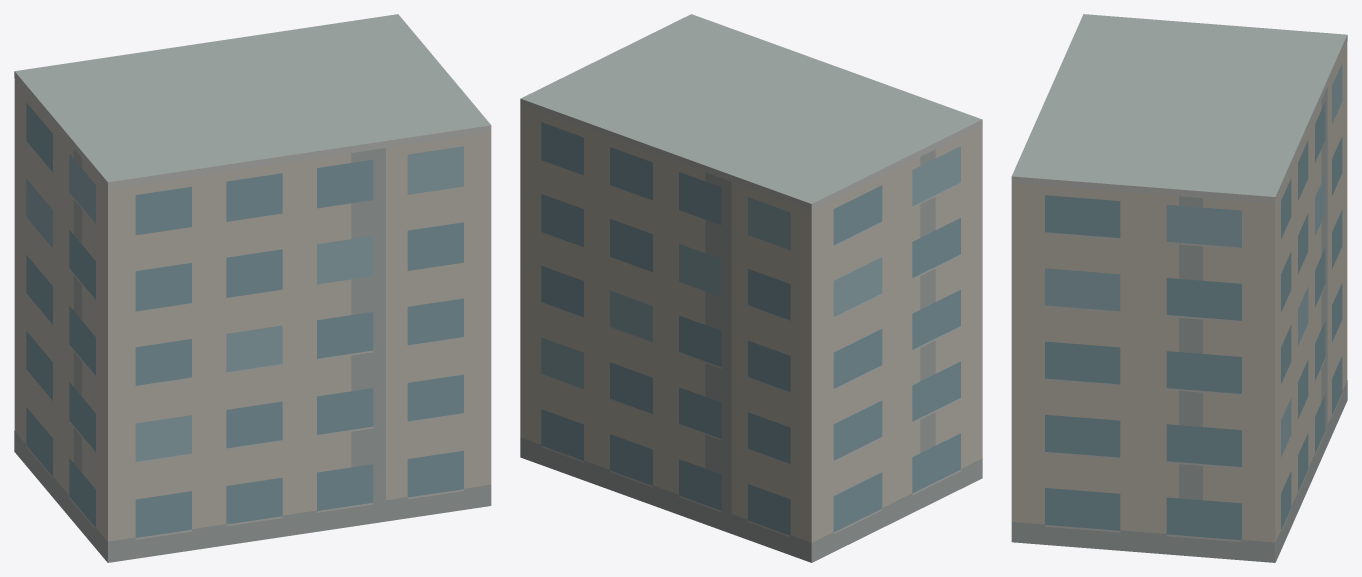
File: survey-upis-32700988.glb
3 renders of one model, left to right at view 1: azimuth 30°, elevation 25°; view 2: azimuth 150°, elevation 25°; view 3: azimuth 270°, elevation 25°, orthographic. The views are drawn at different scales.
Parts seen in each view (by area): view 1: survey-upis-32700988.tmp; view 2: survey-upis-32700988.tmp; view 3: survey-upis-32700988.tmp.
Boxes of the visible parts, box(x1,y1,x2,y2) form: survey-upis-32700988.tmp: box(14, 14, 491, 562); survey-upis-32700988.tmp: box(520, 14, 982, 562); survey-upis-32700988.tmp: box(1011, 14, 1347, 562).
Size of the model in its own units: 14.28 by 13.3 by 11.08.
